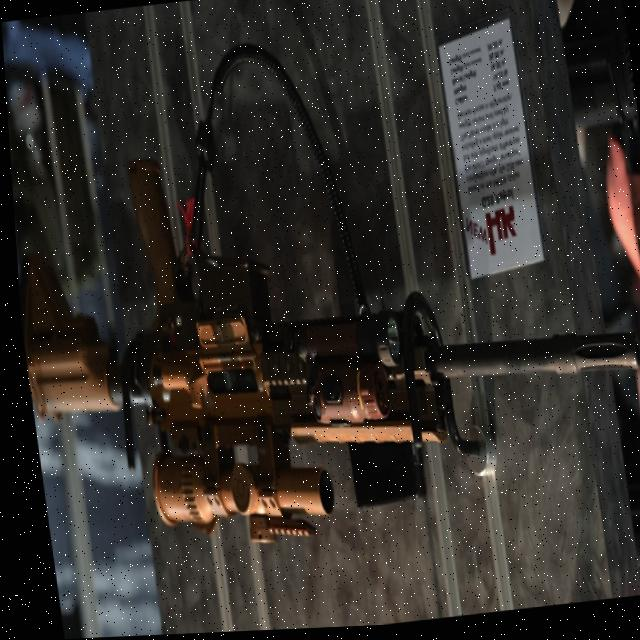firearm: (7, 105, 640, 575)
